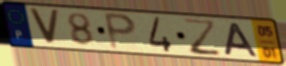4: (148, 16, 174, 53)
8: (65, 12, 96, 47)
A: (222, 22, 260, 59)
P: (102, 11, 139, 52)
V: (26, 7, 61, 47)
Z: (180, 17, 224, 58)
